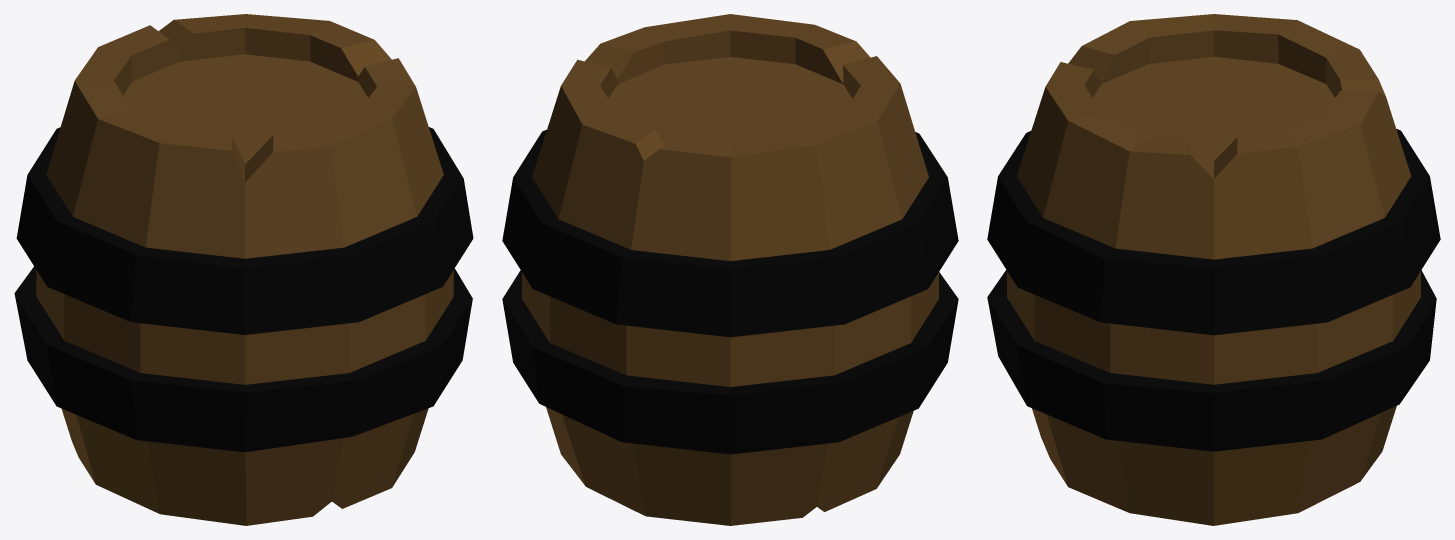
File: Barrel.fbx
The picture shows the model from 3 angles, left to right: view 1: azimuth 30°, elevation 25°; view 2: azimuth 150°, elevation 25°; view 3: azimuth 270°, elevation 25°; orthographic projection.
Visible parts, largest first — view 1: Cylinder; view 2: Cylinder; view 3: Cylinder.
Part boxes in pixels (<box>): Cylinder: <box>14,14,473,525</box>; Cylinder: <box>502,14,958,525</box>; Cylinder: <box>987,14,1440,525</box>.
Size of the model in its own units: 135 by 122 by 135.
